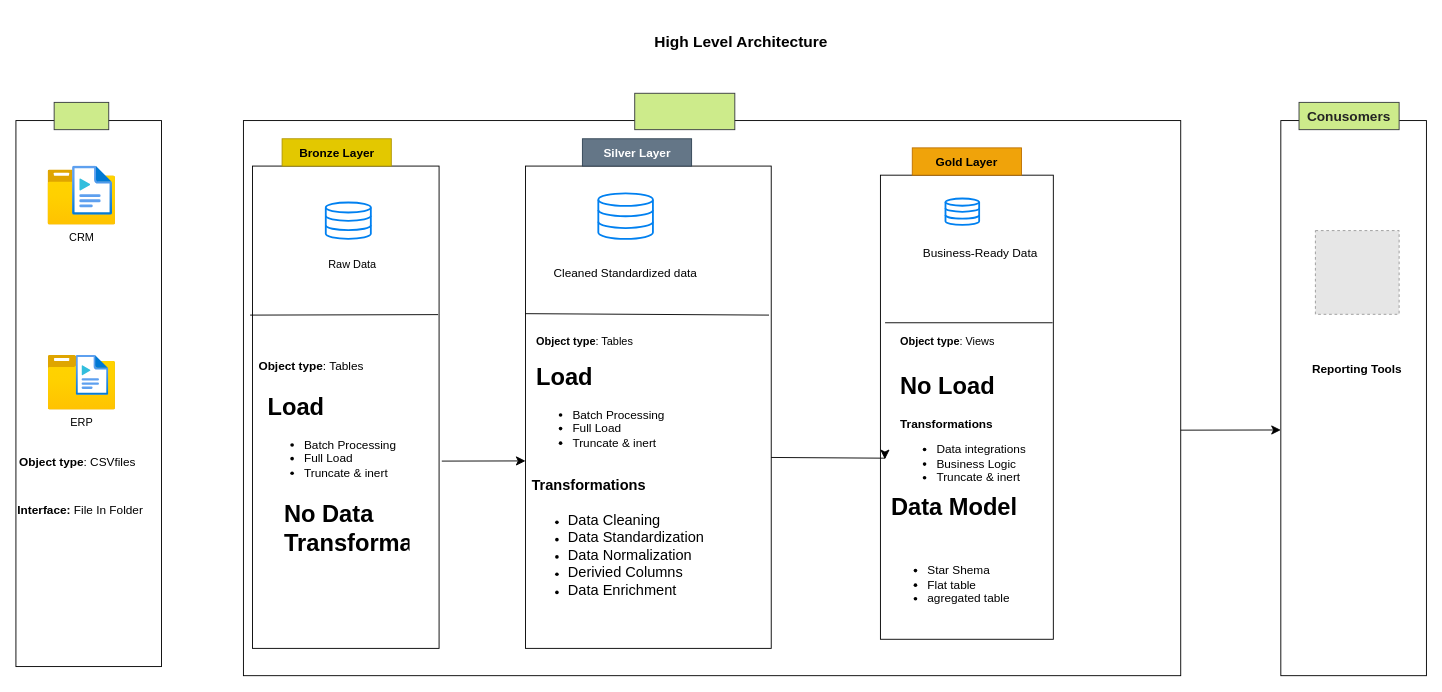
Image size: 1442x692. Some labels were removed from this diagram. Grey dashed boxes stand in for pictures. The box of each missing label's shape, as (x1, y1, x2, y2) in pixels:
Data Warhouse: (634, 92, 735, 130)
Sources: (53, 101, 109, 130)
